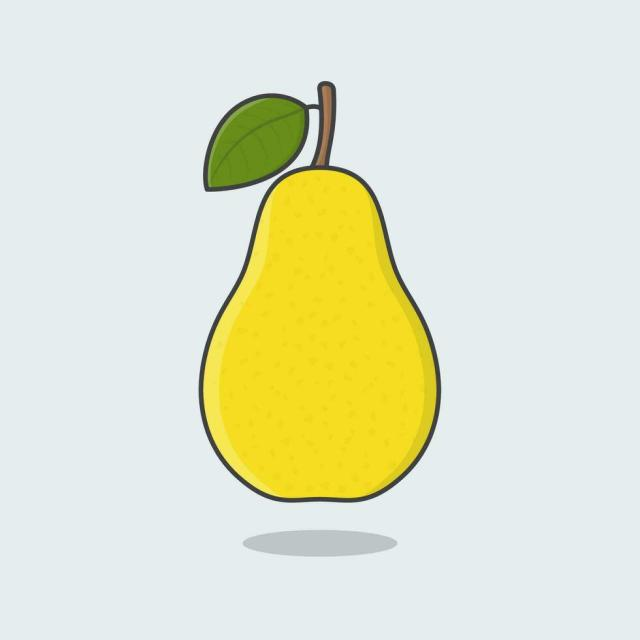pera: (116, 54, 481, 539)
